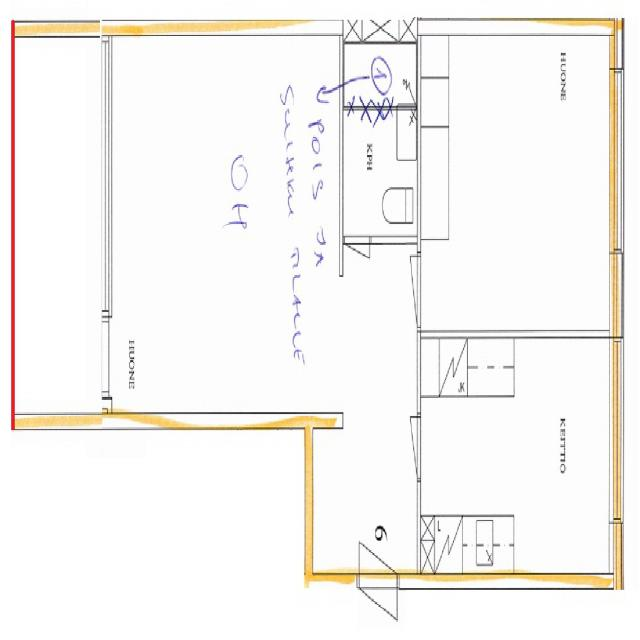door: (359, 492, 397, 588), (384, 257, 421, 327), (388, 417, 420, 477), (344, 236, 370, 297)
